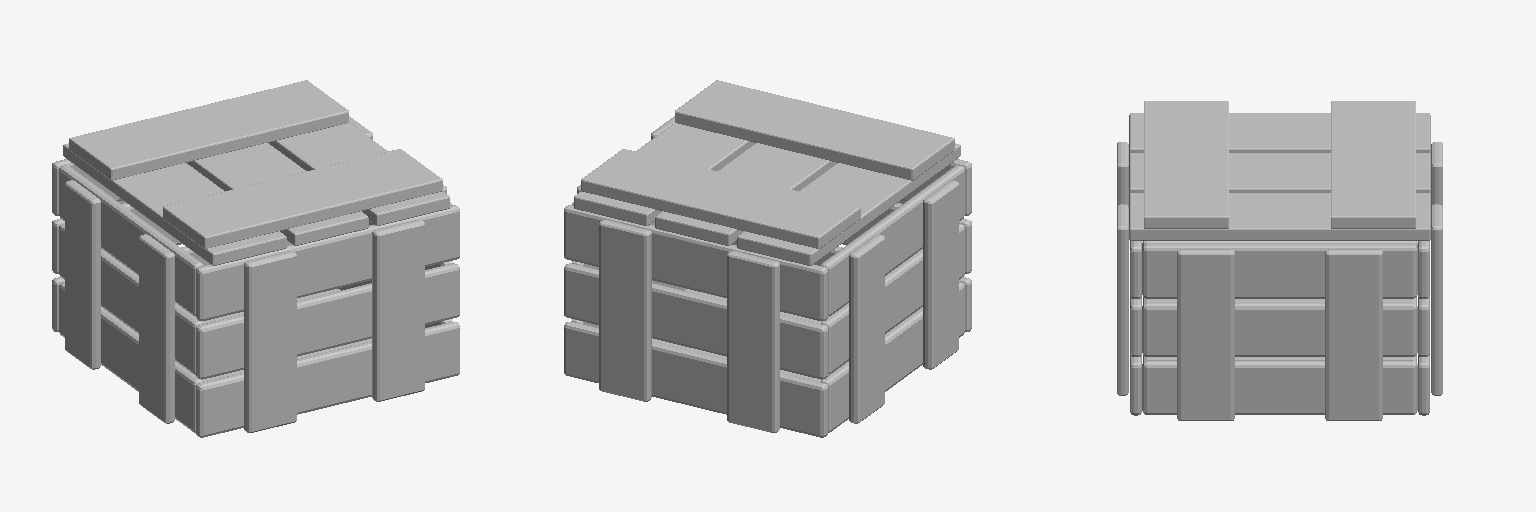
Rendered from LootCrate.obj.
3 views of the same model, side by side, from view 1: azimuth 30°, elevation 25°; view 2: azimuth 150°, elevation 25°; view 3: azimuth 270°, elevation 25° (orthographic).
Parts seen in each view (by area): view 1: Crate_Cube.003, Cover_Cube.011; view 2: Crate_Cube.003, Cover_Cube.011; view 3: Crate_Cube.003, Cover_Cube.011.
Boxes of the visible parts, box(x1,y1,x2,y2) form: Crate_Cube.003: box(52, 116, 459, 437); Cover_Cube.011: box(63, 80, 449, 265); Crate_Cube.003: box(564, 116, 971, 437); Cover_Cube.011: box(574, 80, 960, 265); Crate_Cube.003: box(1117, 142, 1442, 420); Cover_Cube.011: box(1129, 101, 1430, 240).
Size of the model in its own units: 2.27 by 1.5 by 2.27.